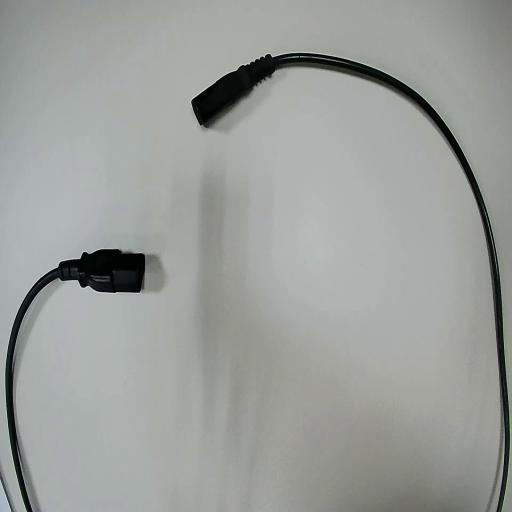wire: (192, 54, 508, 511), (7, 250, 144, 511)
